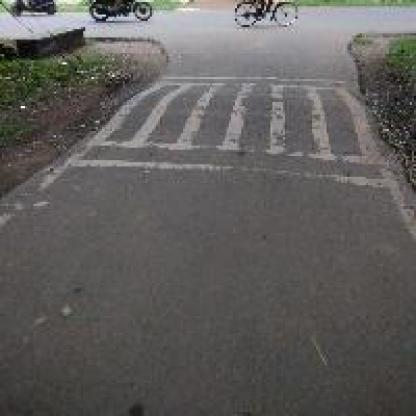Speed Bump: (66, 71, 400, 189)
